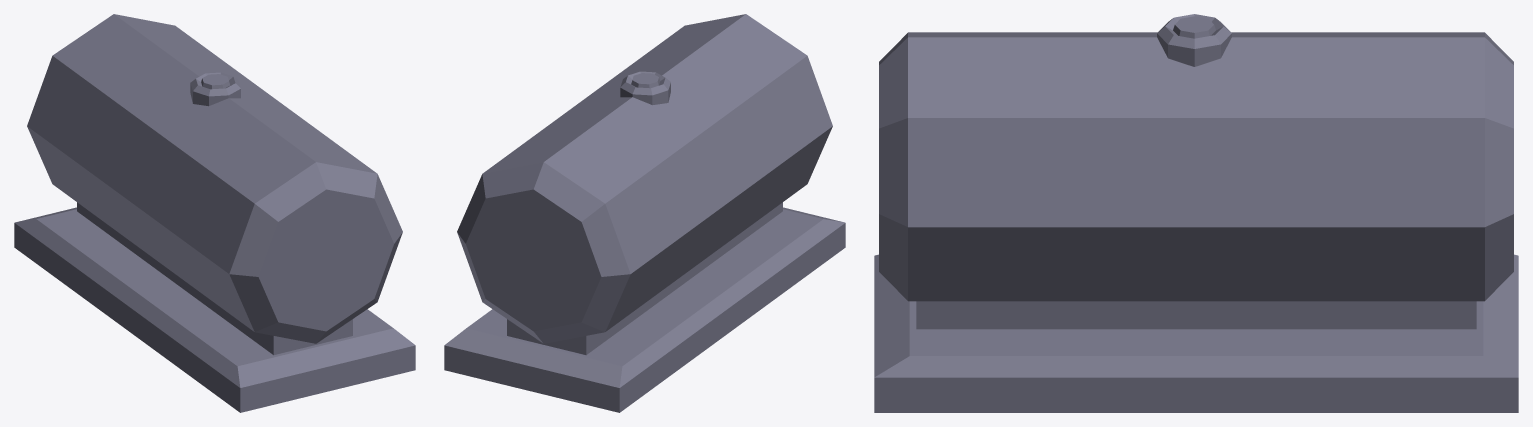
Rendered from decoration_1.fbx.
3 renders of one model, left to right at view 1: azimuth 30°, elevation 25°; view 2: azimuth 150°, elevation 25°; view 3: azimuth 270°, elevation 25°, orthographic. The views are drawn at different scales.
Visible parts, largest first — view 1: Decor; view 2: Decor; view 3: Decor.
Part boxes in pixels (bbox=[...]): Decor: bbox=[14, 14, 415, 412]; Decor: bbox=[444, 14, 845, 412]; Decor: bbox=[874, 14, 1518, 412].
Size of the model in its own units: 89.16 by 112 by 199.
1 material, 1 textured.
